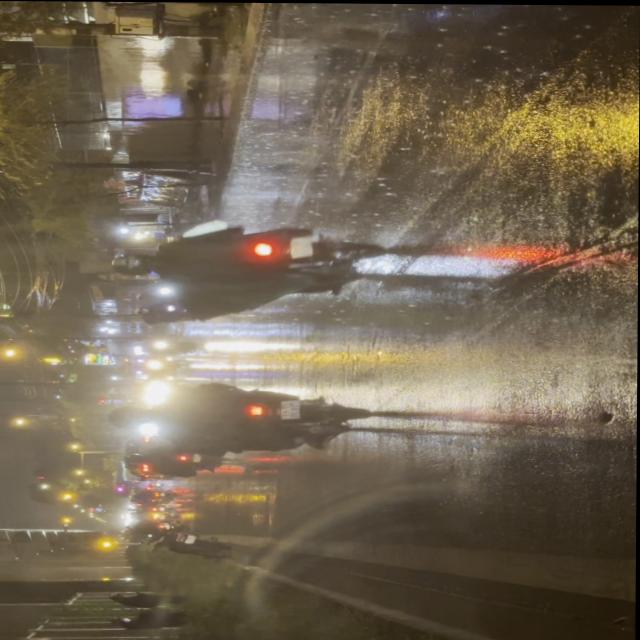helmet: (110, 252, 157, 275)
licenseplate: (108, 221, 388, 325)
